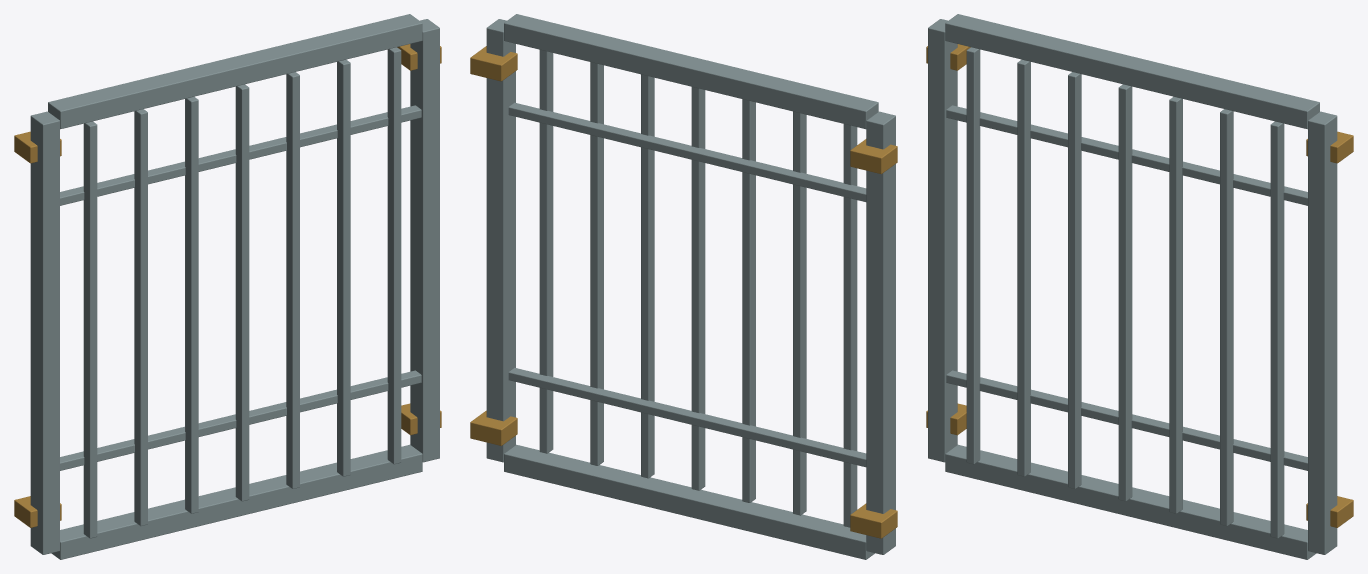
The model's file is malaysia-window-grille.glb.
3 views of the same model, side by side, from view 1: azimuth 30°, elevation 25°; view 2: azimuth 150°, elevation 25°; view 3: azimuth 330°, elevation 25° (orthographic).
Visible parts, largest first — view 1: Mount_Frame_Stile, Mount_Frame_Stile.001, Mount_Frame_Rail.001, Mount_Frame_Rail, Bar_6, Bar_0, Bar_3, Bar_2, Bar_5, Bar_4, Bar_1, Crossrail (+3 smaller); view 2: Mount_Frame_Stile, Mount_Frame_Rail.001, Mount_Frame_Stile.001, Mount_Frame_Rail, Bar_6, Bar_3, Bar_0, Bar_4, Bar_1, Bar_2, Bar_5, Crossrail (+5 smaller); view 3: Mount_Frame_Stile.001, Mount_Frame_Stile, Mount_Frame_Rail.001, Mount_Frame_Rail, Bar_0, Bar_6, Bar_3, Bar_4, Bar_1, Bar_2, Bar_5, Crossrail (+3 smaller).
Part boxes in pixels (x1,y1,x2,y2): Mount_Frame_Stile: [30, 111, 59, 554]; Mount_Frame_Stile.001: [410, 19, 439, 462]; Mount_Frame_Rail.001: [48, 14, 422, 129]; Mount_Frame_Rail: [51, 444, 422, 559]; Bar_6: [387, 47, 401, 464]; Bar_0: [83, 121, 97, 538]; Bar_3: [235, 84, 249, 501]; Bar_2: [185, 96, 198, 513]; Bar_5: [337, 59, 350, 476]; Bar_4: [286, 72, 299, 488]; Bar_1: [134, 109, 147, 526]; Crossrail: [60, 105, 421, 205]; Mount_Frame_Stile: [866, 111, 895, 554]; Mount_Frame_Rail.001: [504, 14, 878, 129]; Mount_Frame_Stile.001: [486, 19, 515, 462]; Mount_Frame_Rail: [504, 444, 874, 559]; Bar_6: [539, 50, 553, 453]; Bar_3: [691, 87, 705, 490]; Bar_0: [843, 124, 857, 527]; Bar_4: [641, 74, 654, 478]; Bar_1: [793, 111, 806, 515]; Bar_2: [742, 99, 755, 502]; Bar_5: [590, 62, 603, 465]; Crossrail: [508, 102, 866, 201]; Mount_Frame_Stile.001: [1308, 111, 1337, 554]; Mount_Frame_Stile: [928, 19, 957, 462]; Mount_Frame_Rail.001: [945, 14, 1319, 129]; Mount_Frame_Rail: [945, 444, 1316, 559]; Bar_0: [966, 47, 980, 464]; Bar_6: [1270, 121, 1284, 538]; Bar_3: [1118, 84, 1132, 501]; Bar_4: [1169, 96, 1182, 513]; Bar_1: [1017, 59, 1030, 476]; Bar_2: [1068, 72, 1081, 488]; Bar_5: [1220, 109, 1233, 526]; Crossrail: [946, 105, 1307, 205].
Bounding box in the file's own units: 1.3 × 1.35 × 0.1425.
